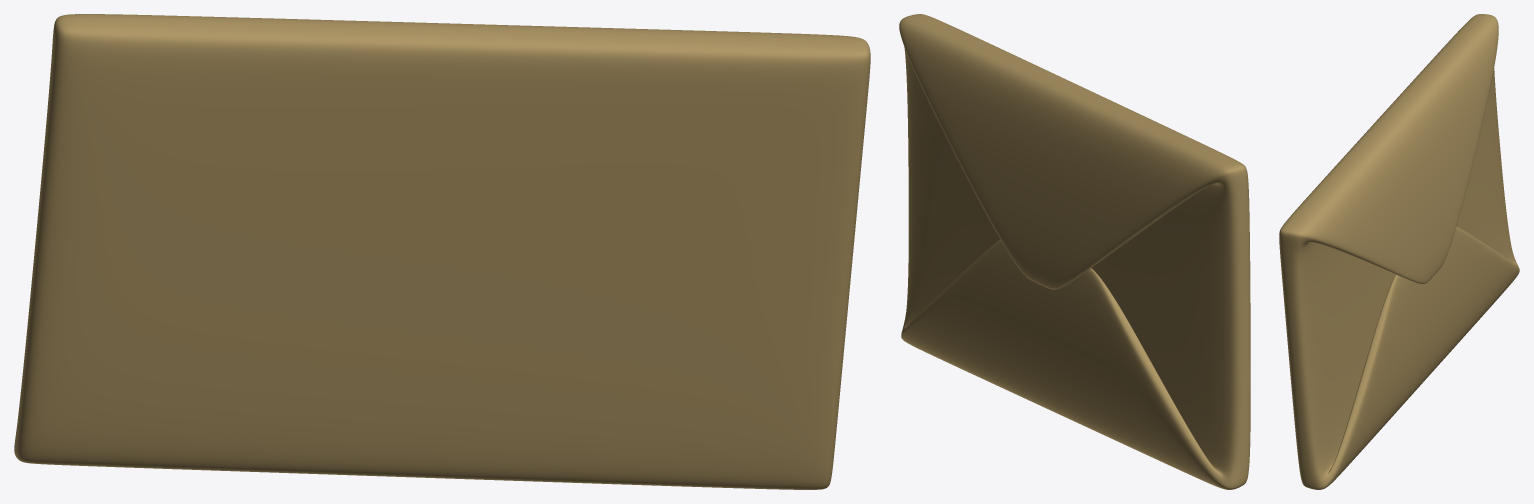
3 views of the same model, side by side, from view 1: azimuth 30°, elevation 25°; view 2: azimuth 150°, elevation 25°; view 3: azimuth 270°, elevation 25° (orthographic). The views are drawn at different scales.
Visible parts, largest first — view 1: Cube020; view 2: Cube020; view 3: Cube020.
Boxes of the visible parts, x1,y1,x2,y2 form: Cube020: (14,14,870,489); Cube020: (899,14,1250,489); Cube020: (1279,14,1519,489).
Size of the model in its own units: 3.34 by 2.4 by 1.75.
